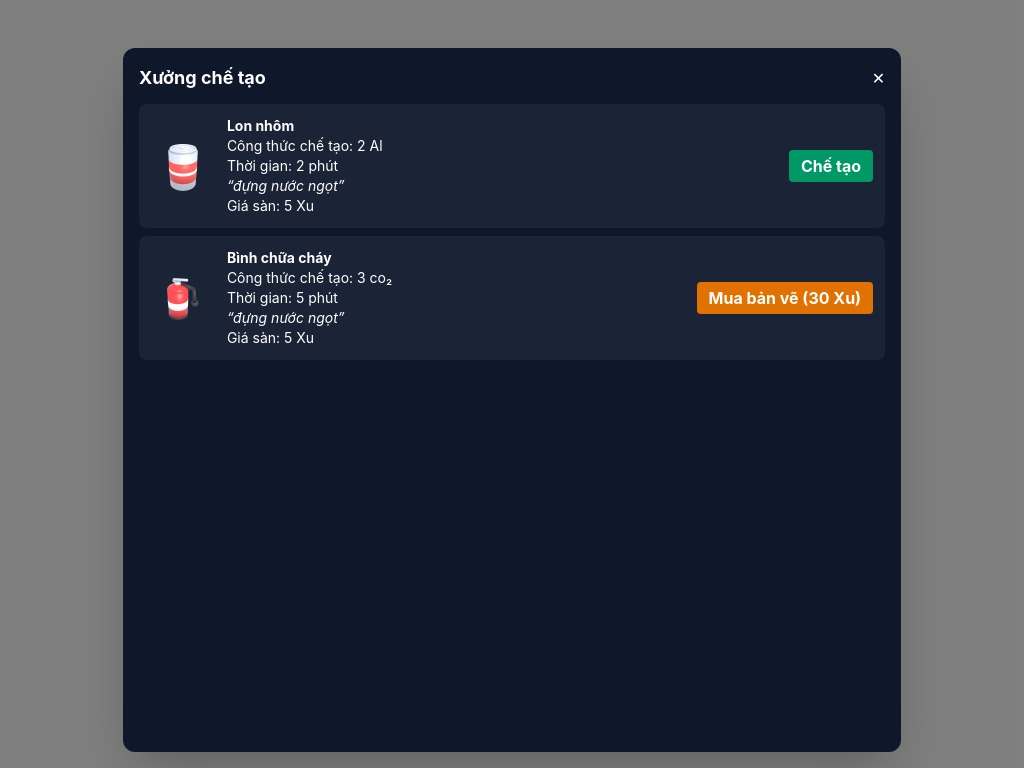
Test: start refusal INSUFFICIENT_PRODUCTS shows copy
Click the button "Chế tạo": (831, 166) [789, 150, 873, 182]
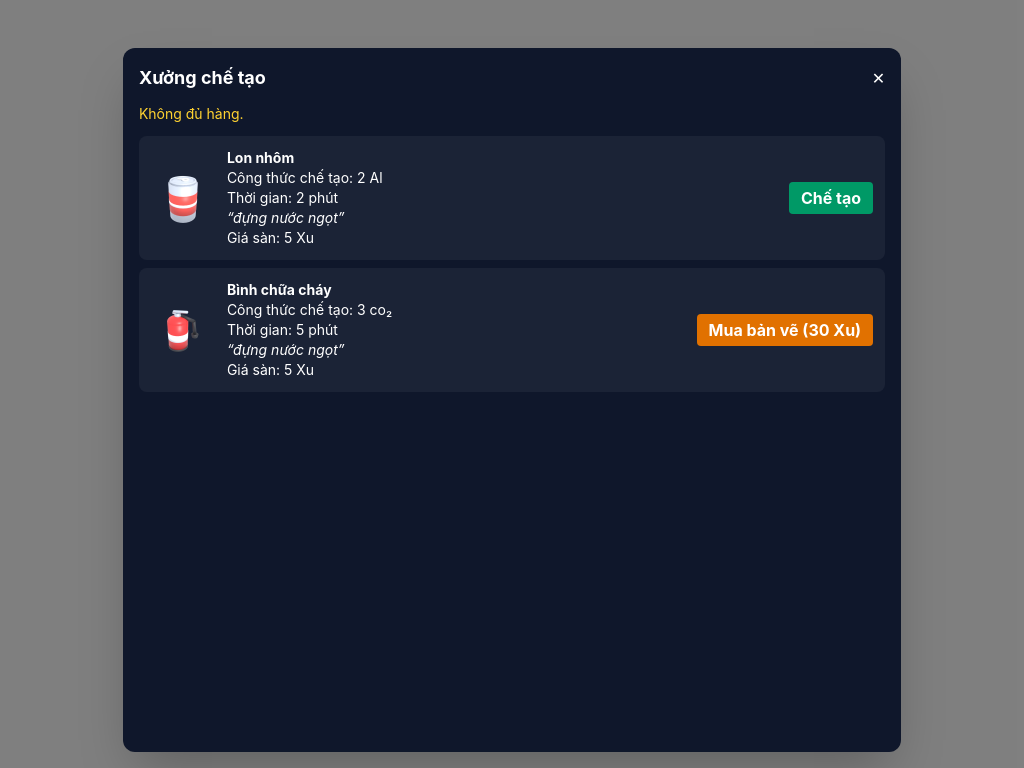
Expected: the message reads "Không đủ hàng.", [139, 105, 244, 122]
